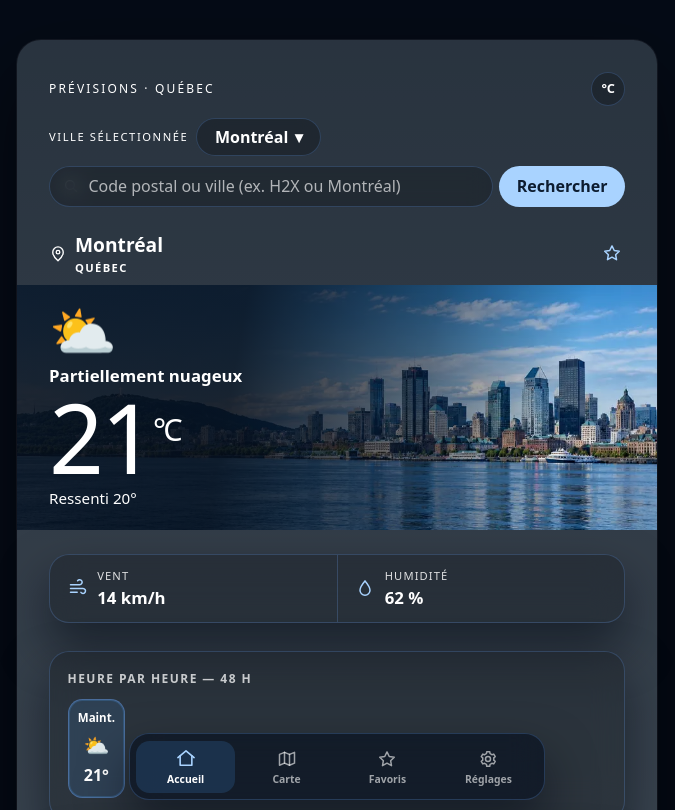
Test case: App — favoris › retire un favori en rebasculant l’étoile
The width and height of the screenshot is (675, 810).
expect the text "Partiellement nuageux" is shown: met, box [49, 364, 242, 387]
What coordinates should you click on to do the following:
click the button named "Ajouter Montréal aux favoris"
I would click on:
 (612, 253)
Its box is [599, 240, 625, 266].
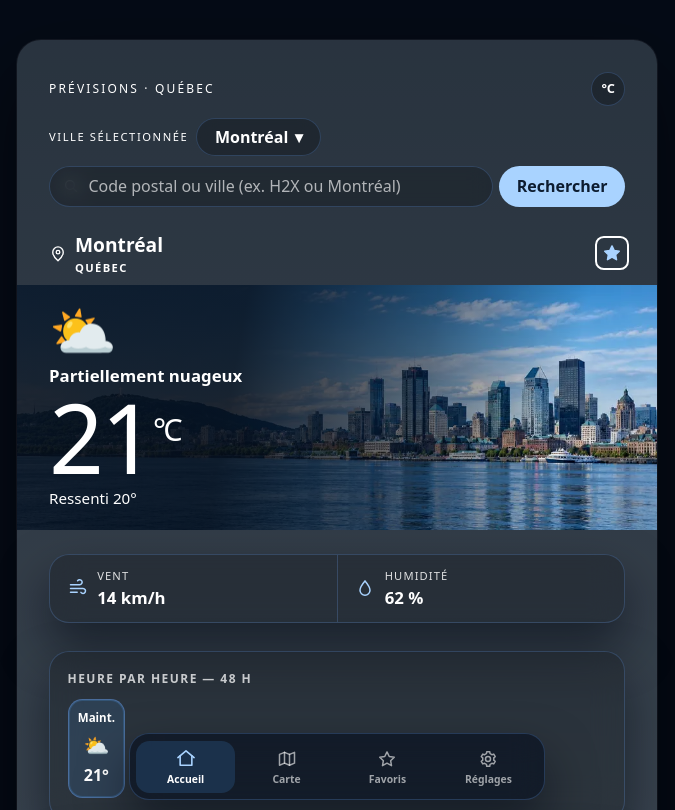
What coordinates should you click on to do the following:
click the button named "Retirer Montréal des favoris"
I would click on:
 (612, 253)
Its box is [599, 240, 625, 266].
(page scrolled)
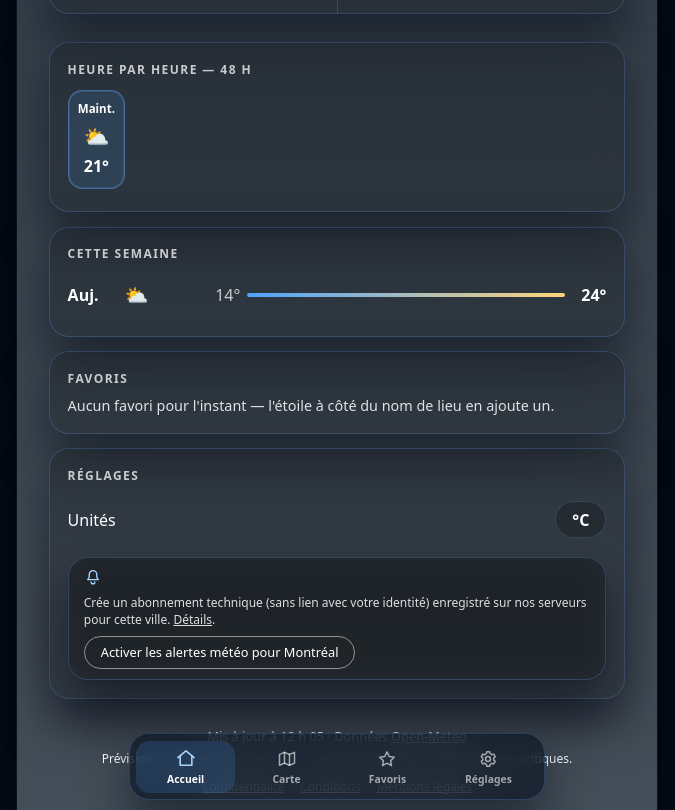
expect the text "Aucun favori" is shown: met, box [68, 396, 554, 415]
